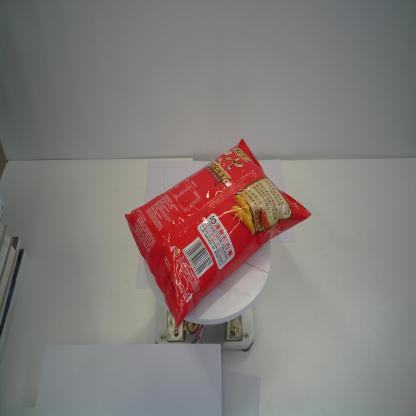Puffed Food: (122, 136, 314, 332)
